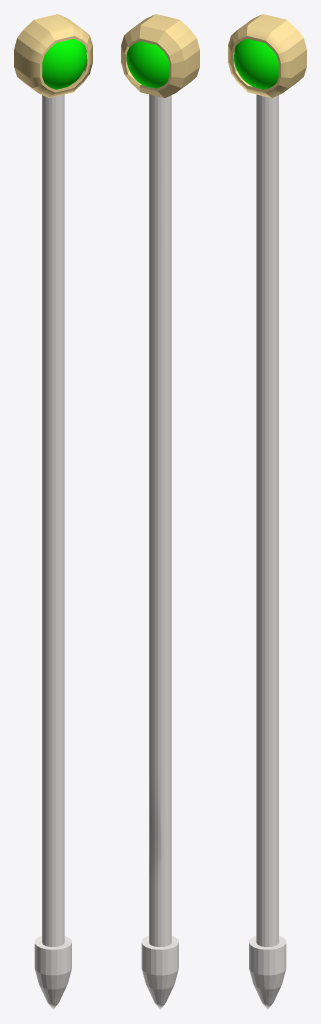
The model's file is NewStaff.FBX.
The picture shows the model from 3 angles, left to right: view 1: azimuth 30°, elevation 25°; view 2: azimuth 150°, elevation 25°; view 3: azimuth 330°, elevation 25°; orthographic projection.
Visible parts, largest first — view 1: shaft, brace, Gem; view 2: shaft, brace, Gem; view 3: shaft, brace, Gem.
Boxes of the visible parts, x1,y1,x2,y2 form: shaft: (34,94,71,1009); brace: (14,14,92,97); Gem: (42,39,86,89); shaft: (141,94,178,1009); brace: (121,14,199,97); Gem: (126,41,169,88); shaft: (249,94,286,1009); brace: (228,14,306,97); Gem: (234,39,278,89).
Size of the model in its own units: 4.39 by 65.18 by 4.07.
Materials: 3 (3 with a texture image).
